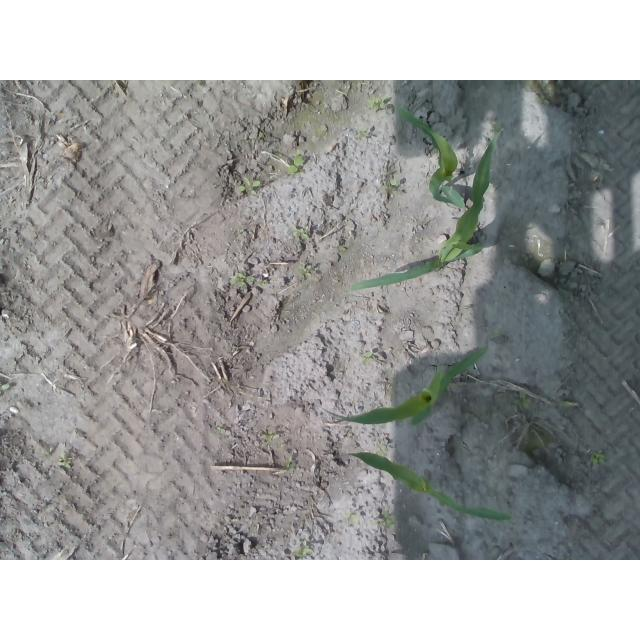Maize: (346, 126, 500, 295), (321, 345, 489, 427), (348, 451, 513, 525), (399, 107, 465, 210)
Weeds: (286, 151, 306, 175), (238, 176, 262, 193), (368, 97, 393, 112), (382, 513, 400, 532), (229, 271, 252, 285), (292, 225, 311, 240), (296, 264, 312, 280), (591, 451, 608, 466), (518, 391, 530, 409), (294, 547, 313, 557), (383, 179, 401, 189), (58, 456, 71, 468), (0, 382, 10, 397), (362, 352, 372, 364), (357, 127, 369, 137), (286, 455, 294, 470), (496, 128, 505, 136), (267, 431, 274, 439)
